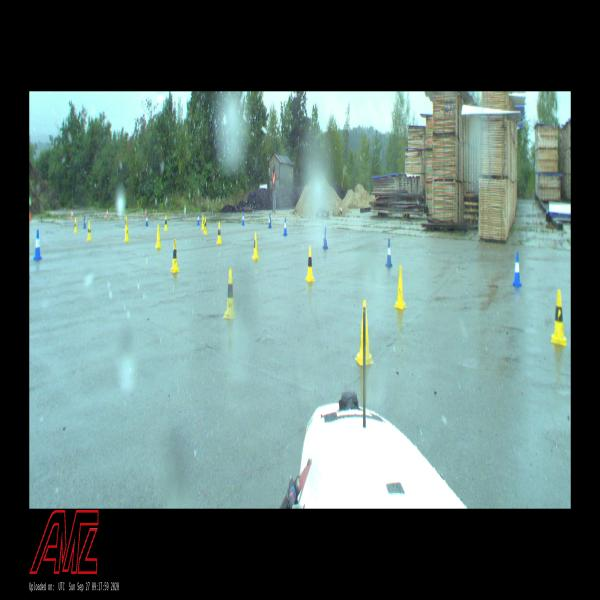blue_cone: (513, 251, 521, 287), (33, 229, 42, 259), (386, 239, 392, 267), (323, 227, 328, 249), (283, 217, 287, 236), (241, 210, 245, 226), (268, 213, 271, 228), (145, 212, 148, 226), (197, 212, 200, 226), (83, 216, 86, 228)
orange_cone: (144, 208, 147, 218), (106, 209, 109, 217), (29, 211, 31, 222), (71, 209, 73, 219)
yellow_cone: (355, 300, 373, 364), (550, 291, 566, 346), (223, 269, 235, 318), (394, 265, 405, 308), (305, 246, 314, 282), (171, 239, 179, 272), (253, 232, 259, 259), (156, 224, 162, 248), (216, 222, 222, 244), (86, 221, 92, 241), (124, 221, 130, 241), (204, 217, 208, 235), (164, 215, 168, 230), (201, 215, 204, 230), (74, 218, 77, 232), (125, 215, 127, 230)
